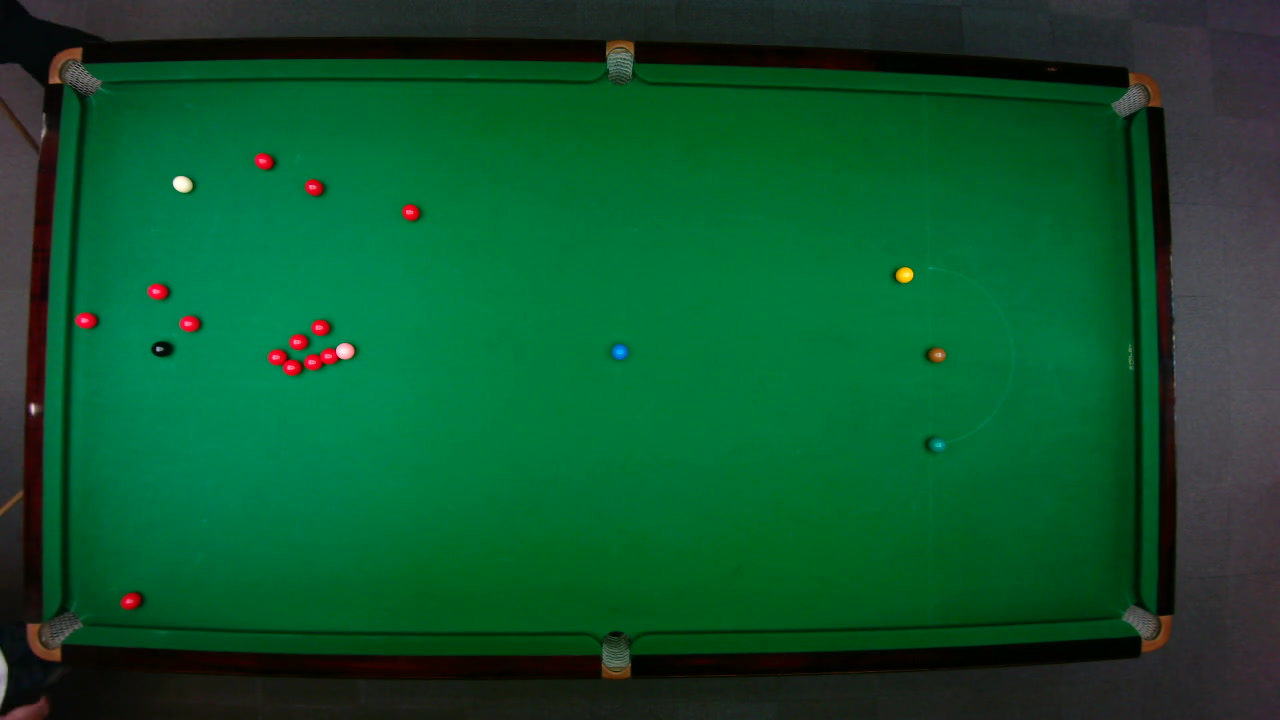bag: (25, 609, 83, 660), (46, 46, 102, 96), (1119, 603, 1171, 652), (1108, 71, 1162, 117), (600, 629, 630, 680), (605, 38, 633, 85)
black: (149, 339, 172, 357)
blue: (610, 342, 628, 360)
brown: (926, 346, 946, 362)
green: (926, 435, 946, 453)
pink: (334, 341, 355, 360)
red: (118, 590, 142, 610), (145, 281, 169, 300), (73, 310, 97, 328), (177, 314, 201, 332), (303, 177, 324, 196), (253, 151, 274, 170), (266, 347, 287, 366), (400, 202, 420, 221), (287, 332, 308, 350), (309, 317, 330, 335), (281, 358, 302, 376), (302, 352, 323, 370), (319, 346, 338, 365)
white: (171, 174, 193, 192)
yellow: (894, 265, 914, 283)
zone: (926, 265, 1013, 444)
